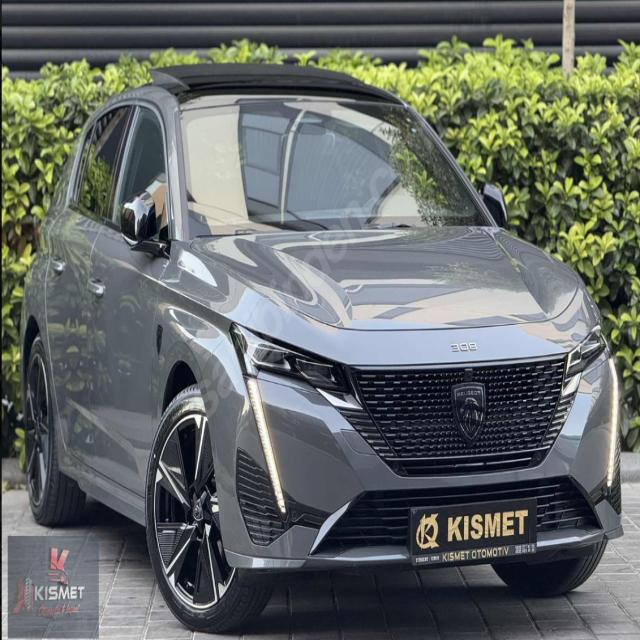pegout: (452, 375, 490, 445)
